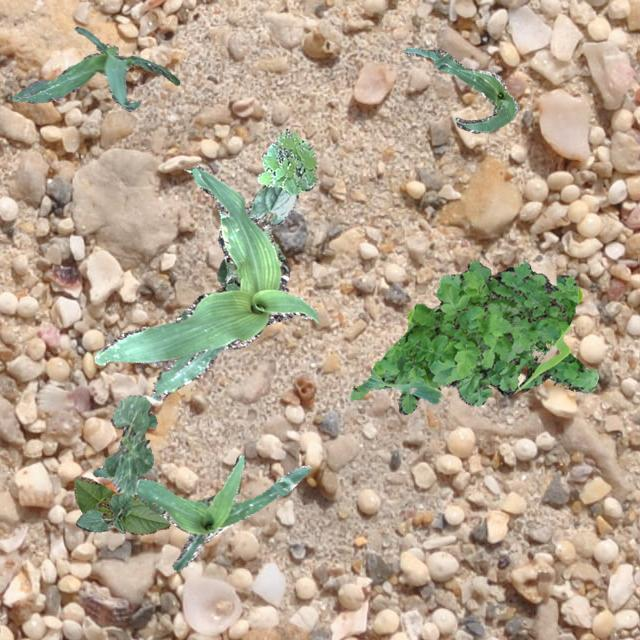crop: (94, 164, 318, 400), (91, 454, 312, 572), (12, 26, 178, 110), (401, 46, 519, 132), (224, 184, 296, 282), (72, 476, 170, 534), (102, 394, 156, 496), (75, 493, 132, 532), (216, 258, 226, 286)
weed: (350, 258, 598, 414), (256, 128, 316, 194)
